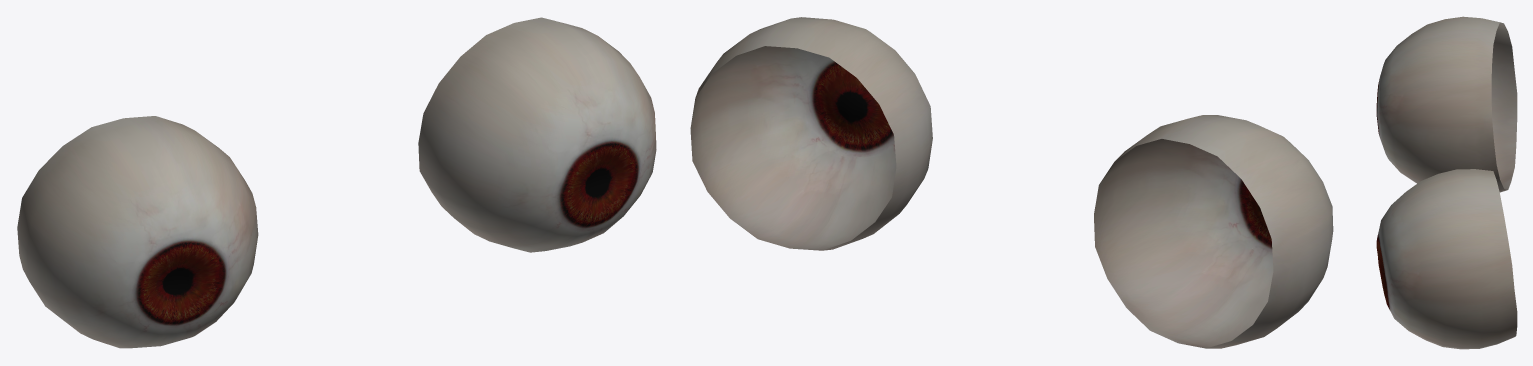
File: eyes.glb
The picture shows the model from 3 angles, left to right: view 1: azimuth 30°, elevation 25°; view 2: azimuth 150°, elevation 25°; view 3: azimuth 270°, elevation 25°; orthographic projection. The views are drawn at different scales.
Parts seen in each view (by area): view 1: editor_eyes; view 2: editor_eyes; view 3: editor_eyes.
Part boxes in pixels (x1,y1,x2,y2): editor_eyes: (17,17,656,348); editor_eyes: (690,17,1333,348); editor_eyes: (1376,16,1517,349).
Bounding box in the file's own units: 0.0901 × 0.03 × 0.0252.
1 material, 1 textured.
